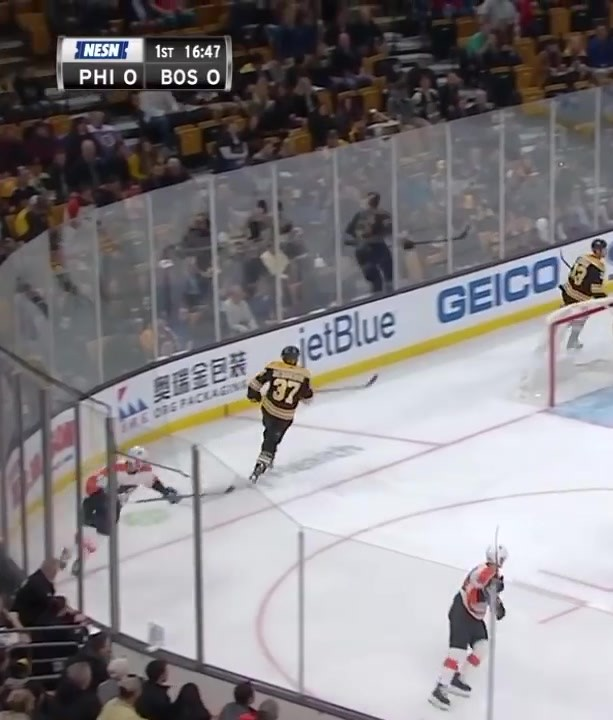Geico: (432, 258, 567, 334)
